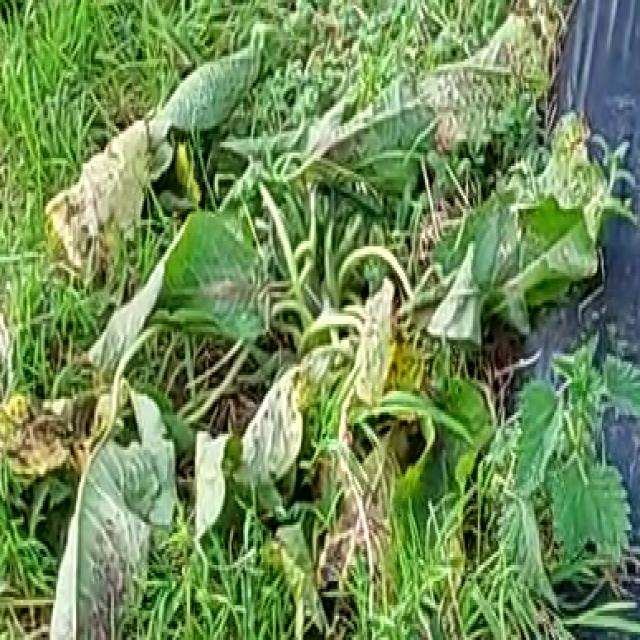organic waste: (26, 32, 627, 640)
